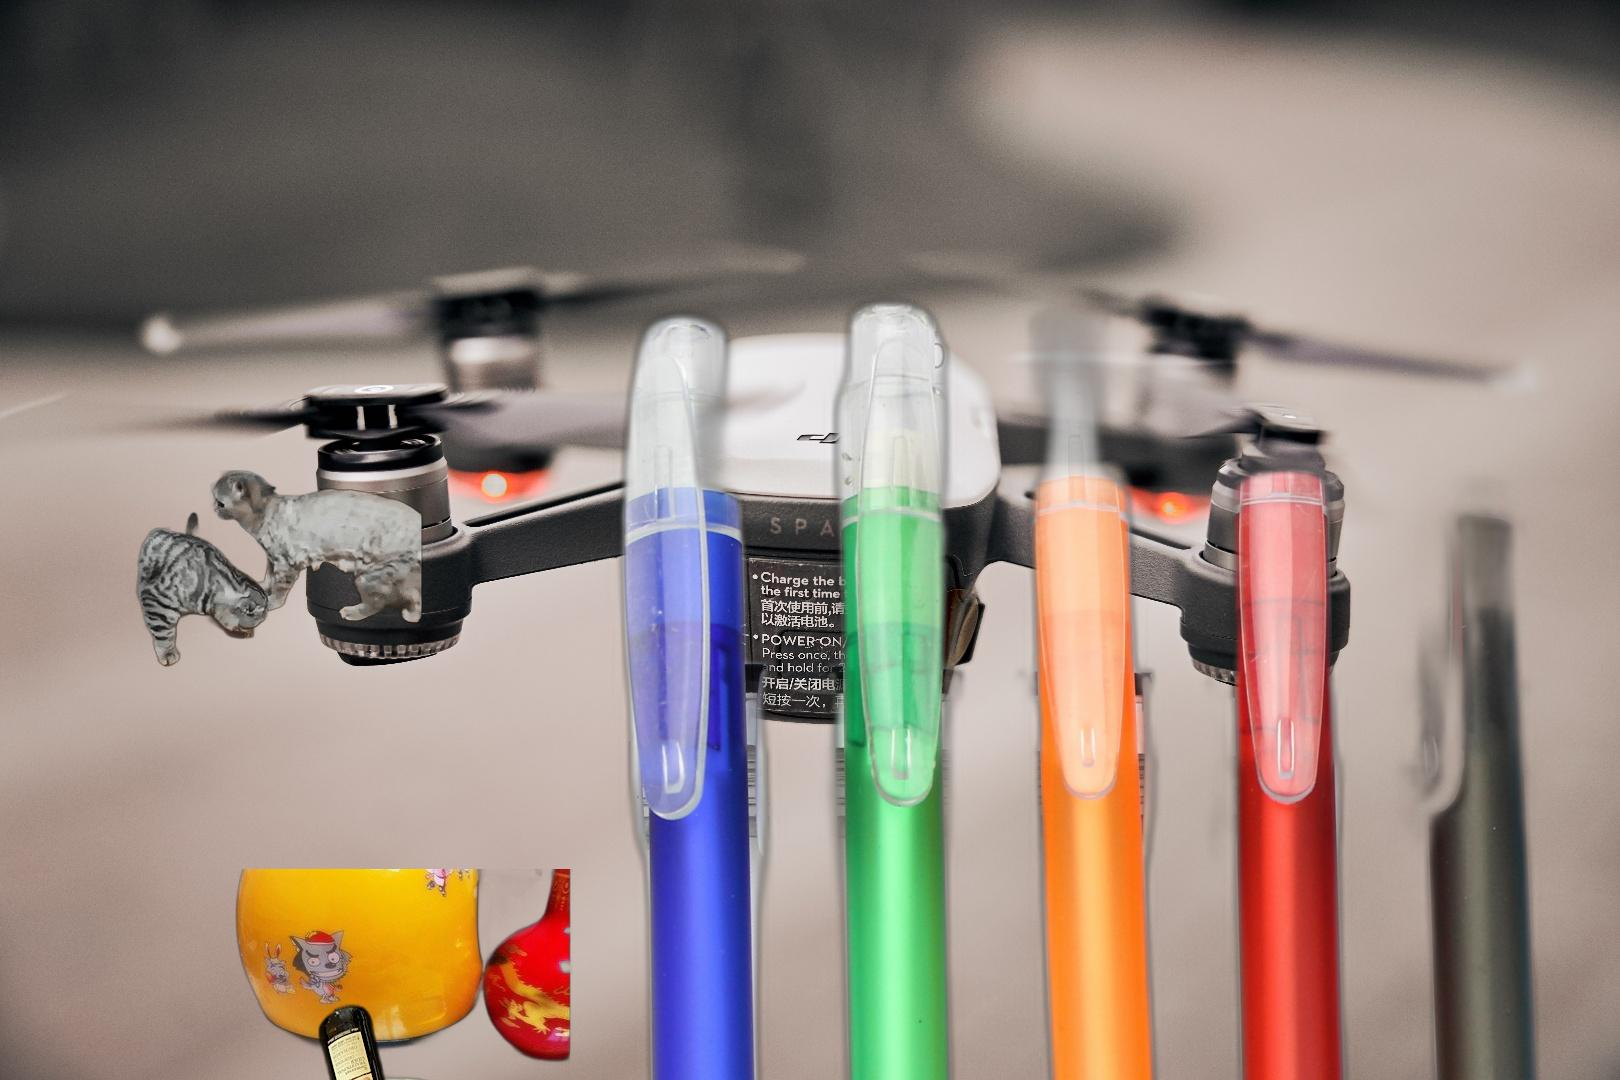biological: (224, 869, 573, 1080)
glass: (89, 998, 397, 1080)
penholder: (591, 206, 1620, 1080), (497, 1068, 1286, 1080)
trashbox-cardboard: (134, 468, 424, 669)
